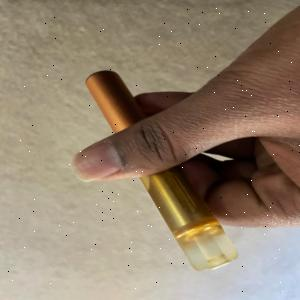Golden-E-Ciggirate: (71, 58, 254, 287)
